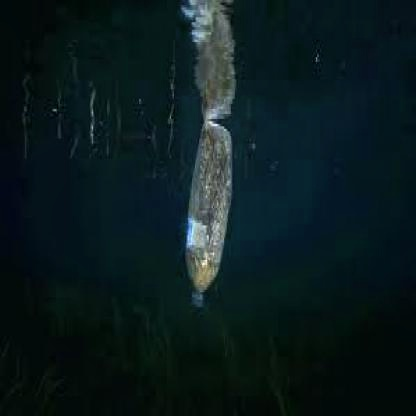pbottle: (171, 111, 239, 312)
